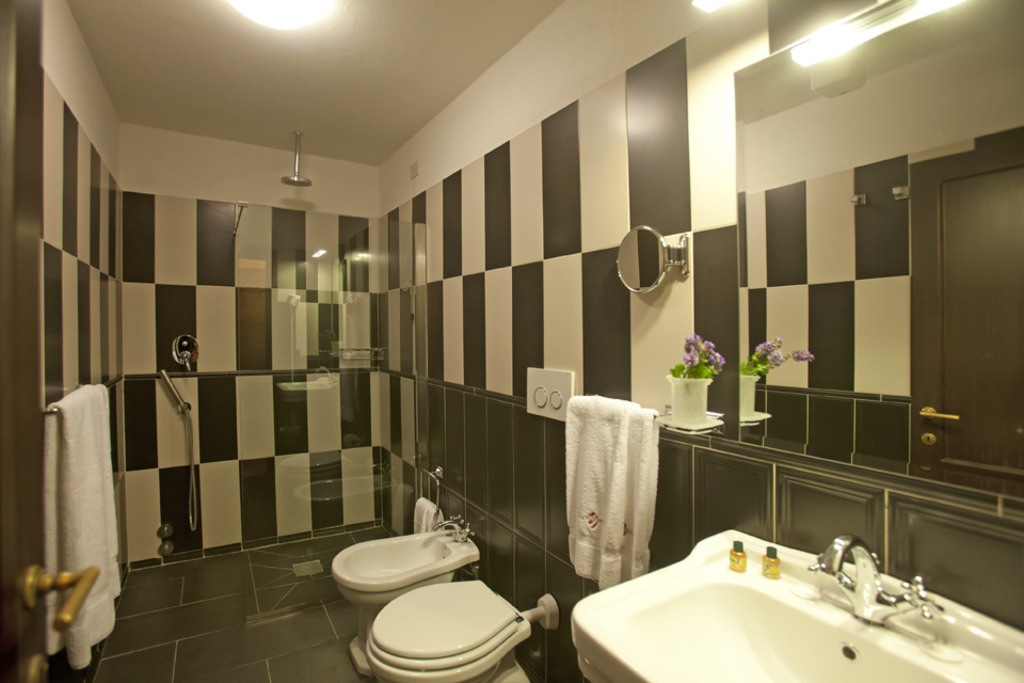tap: (816, 529, 944, 622), (432, 517, 466, 547)
